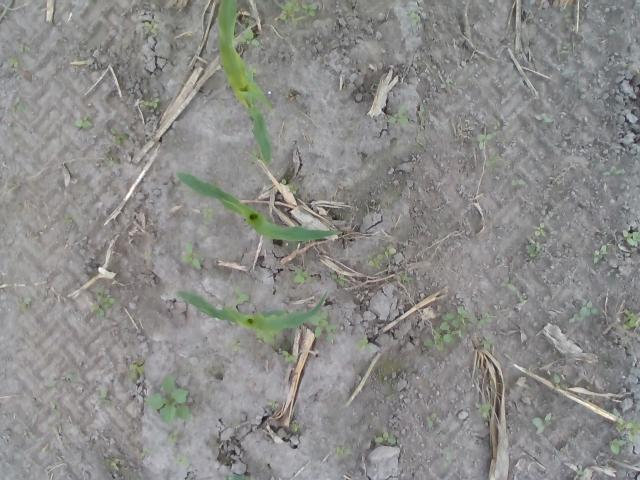Maize: (173, 170, 344, 242), (214, 0, 274, 165), (174, 288, 328, 331)
Weeds: (422, 302, 474, 353), (144, 373, 192, 423), (88, 286, 120, 320), (279, 0, 319, 25), (612, 408, 640, 443), (310, 311, 336, 344), (570, 298, 602, 322), (179, 242, 203, 270), (386, 103, 410, 126), (240, 26, 264, 48), (350, 334, 377, 353), (127, 358, 145, 386), (273, 341, 295, 363), (103, 455, 128, 474), (532, 412, 552, 434), (95, 384, 113, 408), (374, 431, 400, 447), (254, 329, 278, 345), (110, 126, 129, 146), (292, 266, 314, 283), (623, 307, 640, 329), (476, 132, 496, 150), (550, 373, 570, 391), (600, 162, 624, 176), (474, 400, 492, 418), (608, 438, 628, 454), (233, 287, 250, 305), (6, 55, 24, 72), (592, 244, 608, 263), (536, 112, 557, 126), (368, 254, 384, 272), (622, 230, 640, 246), (16, 296, 32, 314), (72, 114, 92, 128), (140, 97, 161, 110), (331, 270, 348, 286), (512, 287, 528, 304), (526, 243, 544, 258), (605, 0, 624, 14), (143, 19, 160, 34), (476, 312, 494, 326), (479, 336, 494, 352), (202, 208, 216, 225), (334, 445, 352, 458), (64, 370, 80, 384), (408, 11, 421, 26), (168, 428, 180, 444), (138, 447, 152, 459), (533, 223, 544, 238), (174, 454, 190, 464), (250, 148, 262, 161), (499, 276, 512, 288), (224, 474, 250, 480), (558, 46, 569, 60), (485, 154, 496, 168), (384, 244, 396, 256), (288, 182, 300, 194), (512, 179, 528, 188), (16, 96, 24, 113), (290, 420, 300, 433), (230, 339, 240, 352), (416, 144, 432, 152), (401, 274, 413, 284), (64, 212, 74, 224), (446, 447, 453, 464), (268, 399, 278, 409), (590, 158, 600, 168), (576, 466, 586, 476), (18, 45, 30, 53), (426, 418, 434, 428), (562, 11, 574, 17), (280, 176, 288, 184), (271, 26, 279, 32), (624, 64, 630, 70)
